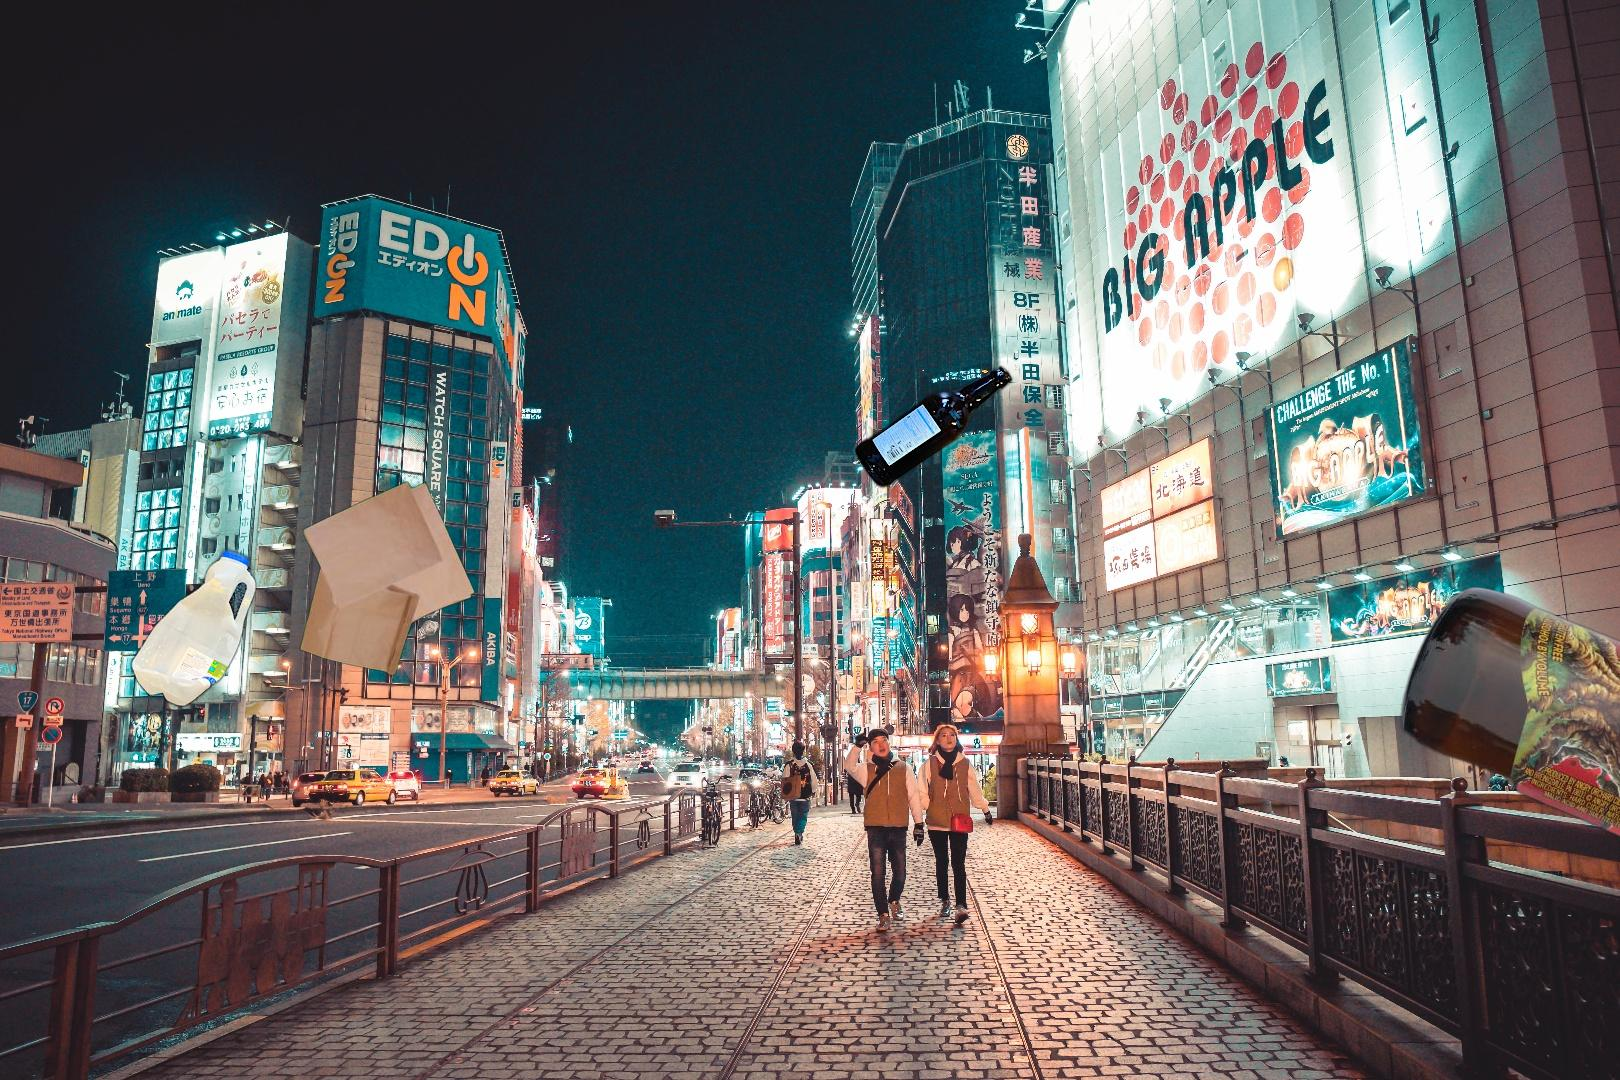glass: (1396, 585, 1620, 881), (850, 360, 1017, 493)
paper-bag: (297, 480, 476, 677)
plastic-bottles: (127, 542, 262, 714)
